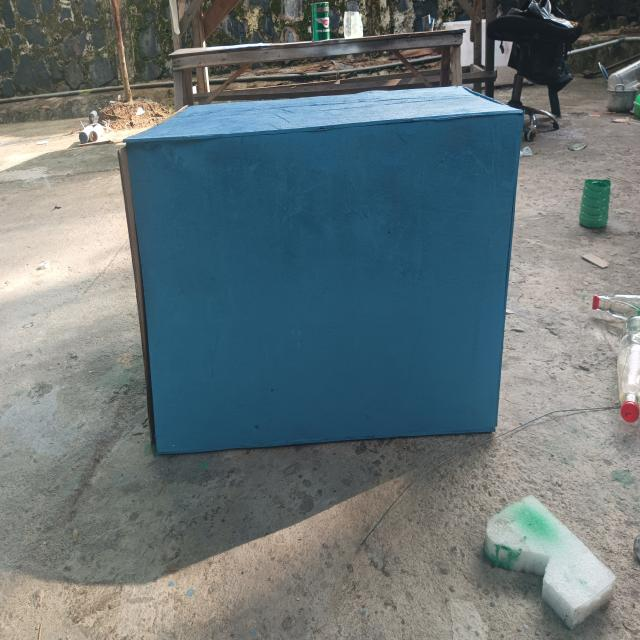blue_box: (114, 90, 524, 441)
